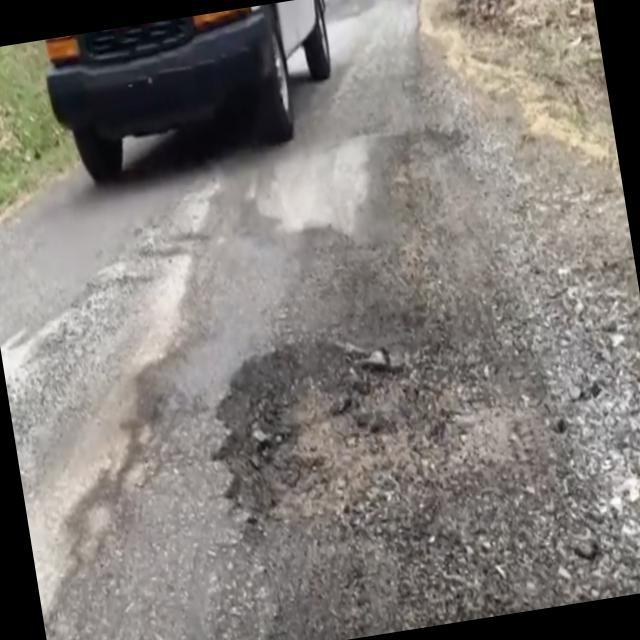Pothole: (202, 300, 492, 599), (398, 112, 470, 190)
